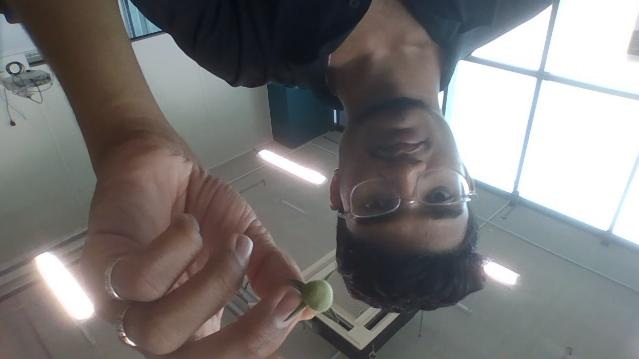Fruit Maturation: (300, 278, 334, 314)
